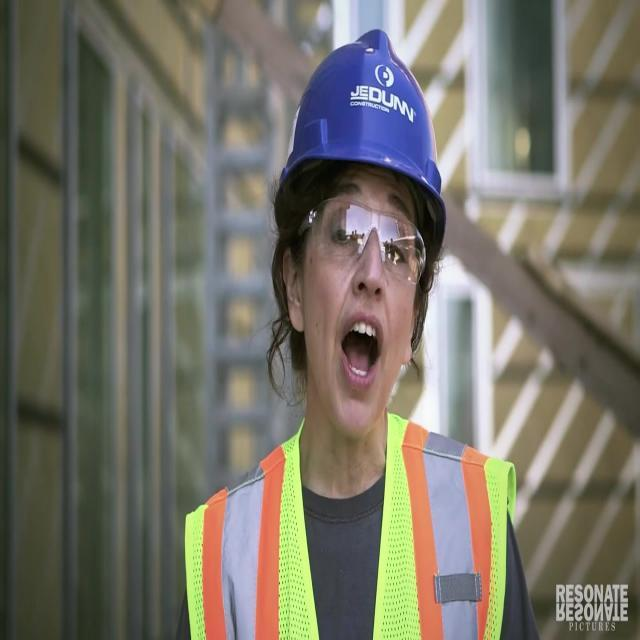reflective_jacket: (181, 409, 524, 639)
safety_helmet: (265, 26, 452, 250)
